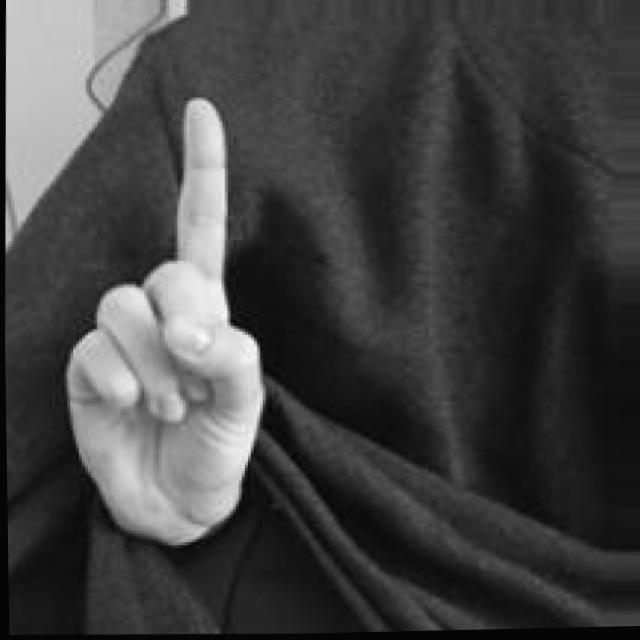I: (56, 88, 278, 553)
